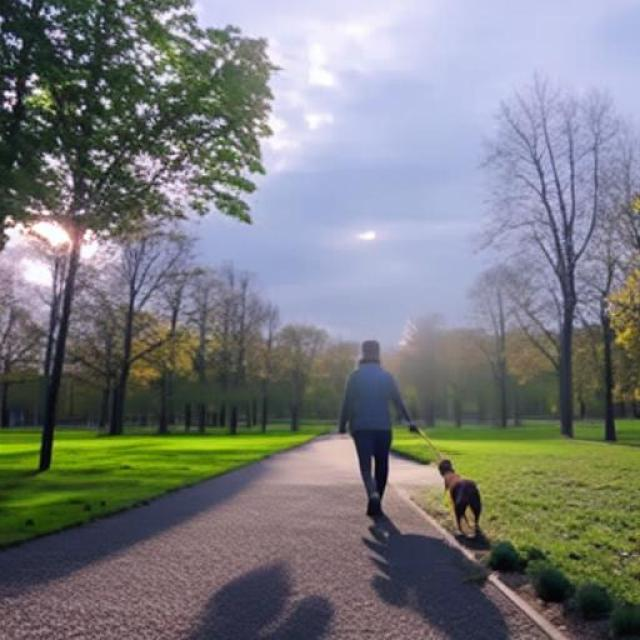Leashed_Dog: (365, 418, 483, 538)
